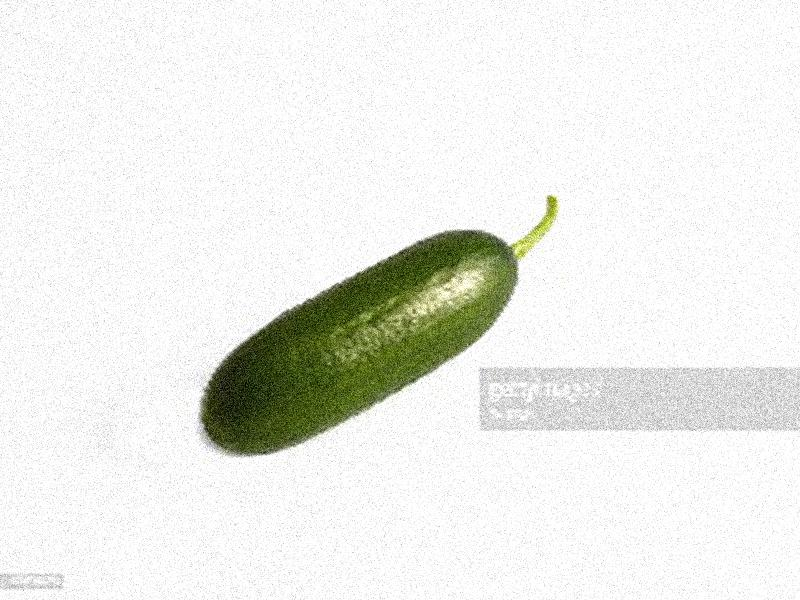Cucumber: (204, 198, 564, 457)
